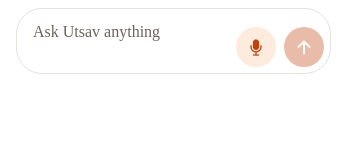
Test: voice input › puts the transcript after what was already typed and never sends it by itself
Later steps or results of the test are not shown.
Type "Hello Utsav" into the text box named "Message Utsav" at (130, 41), box [33,15,228,67]
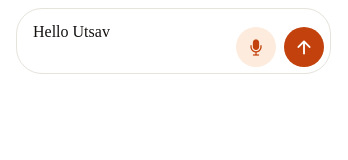
Click the button named "Speak to Utsav" at (256, 47), box [236,27,276,67]
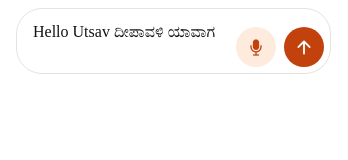
Expected: the text box named "Message Utsav" holds "Hello Utsav ದೀಪಾವಳಿ ಯಾವಾಗ", [33,15,228,67]
